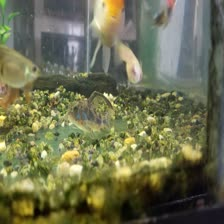Cuezo: (84, 0, 135, 67)
Guppy: (0, 44, 48, 87), (113, 43, 155, 85)
Kiros: (61, 92, 124, 137)
